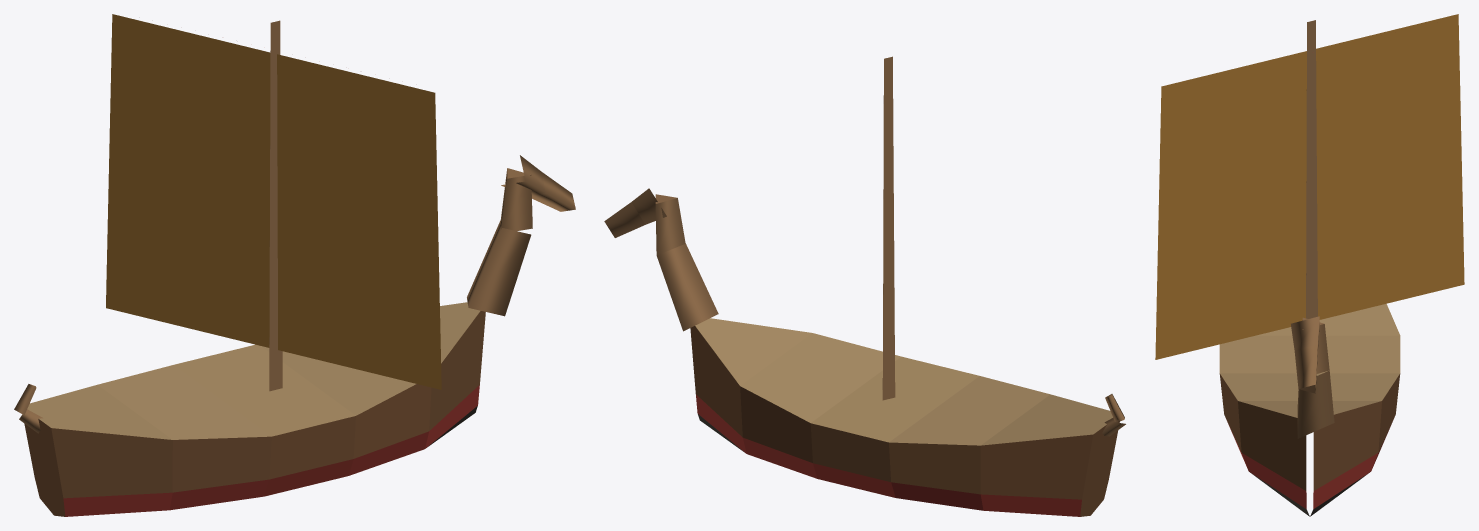
Rendered from hull_fiat_hippos_boat_lod.glb.
3 renders of one model, left to right at view 1: azimuth 30°, elevation 25°; view 2: azimuth 150°, elevation 25°; view 3: azimuth 270°, elevation 25°, orthographic. The views are drawn at different scales.
Parts seen in each view (by area): view 1: lod; view 2: lod; view 3: lod.
Part boxes in pixels (x1=…): lod: x1=14, y1=14, x2=575, y2=516; lod: x1=604, y1=56, x2=1125, y2=516; lod: x1=1155, y1=14, x2=1464, y2=516.
Size of the model in its own units: 9.36 by 7.39 by 4.86.
